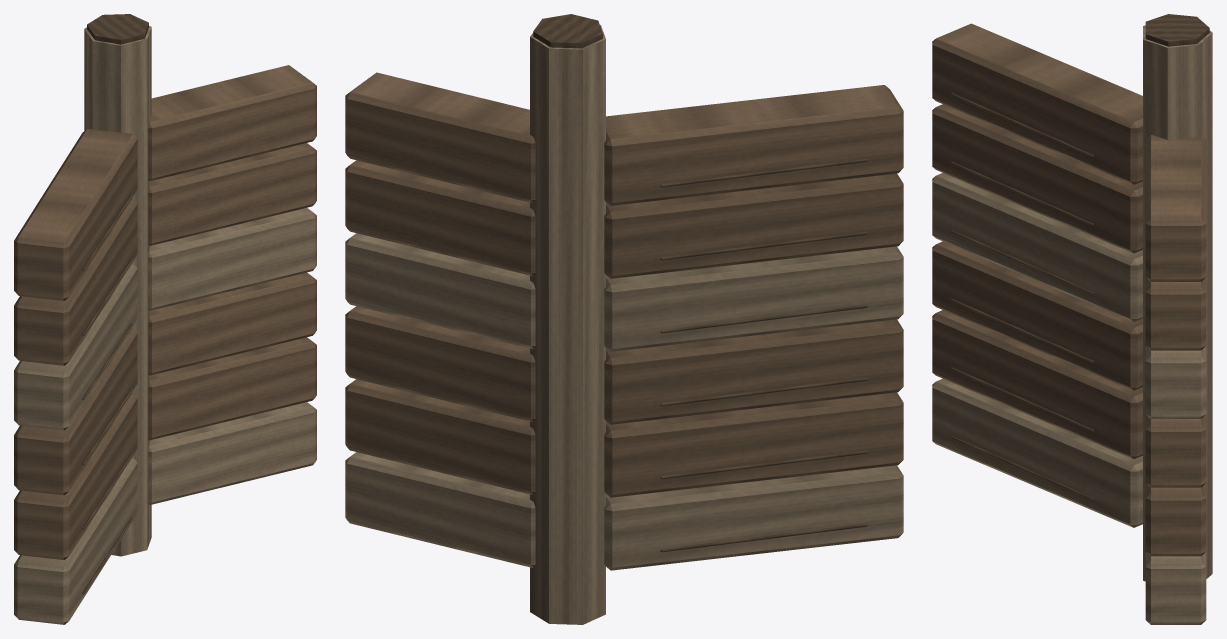
Rendered from wall_mask_132.glb.
3 renders of one model, left to right at view 1: azimuth 30°, elevation 25°; view 2: azimuth 150°, elevation 25°; view 3: azimuth 270°, elevation 25°, orthographic. The views are drawn at different scales.
Parts seen in each view (by area): view 1: Weathered timber, Timber worn edges, Dark endgrain; view 2: Weathered timber, Timber worn edges, Dark endgrain; view 3: Weathered timber, Timber worn edges, Dark endgrain.
Boxes of the visible parts, x1=… form: Weathered timber: x1=14, y1=65, x2=316, y2=560; Timber worn edges: x1=14, y1=26, x2=316, y2=624; Dark endgrain: x1=82, y1=14, x2=148, y2=594; Weathered timber: x1=345, y1=72, x2=903, y2=497; Timber worn edges: x1=345, y1=25, x2=903, y2=624; Dark endgrain: x1=533, y1=14, x2=867, y2=552; Weathered timber: x1=932, y1=23, x2=1206, y2=556; Timber worn edges: x1=932, y1=25, x2=1212, y2=624; Dark endgrain: x1=951, y1=14, x2=1209, y2=500.
Bounding box in the file's own units: 1.09 × 1.39 × 0.6484.
Materials: 3 (3 with a texture image).
